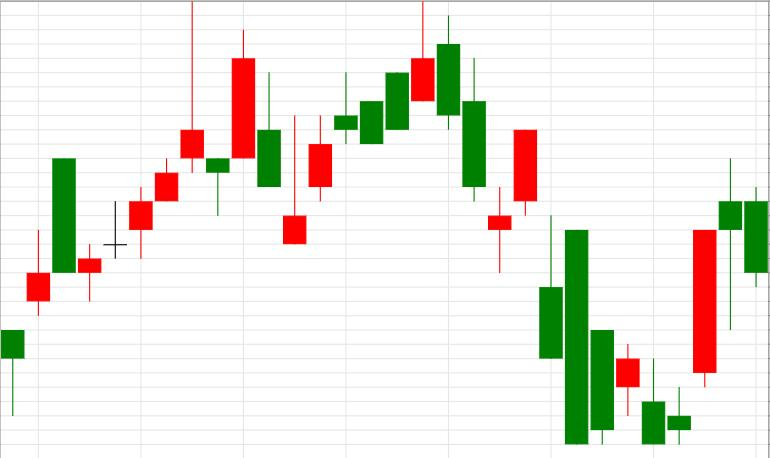shooting_star_fall: (27, 1, 204, 316), (283, 1, 434, 245)
